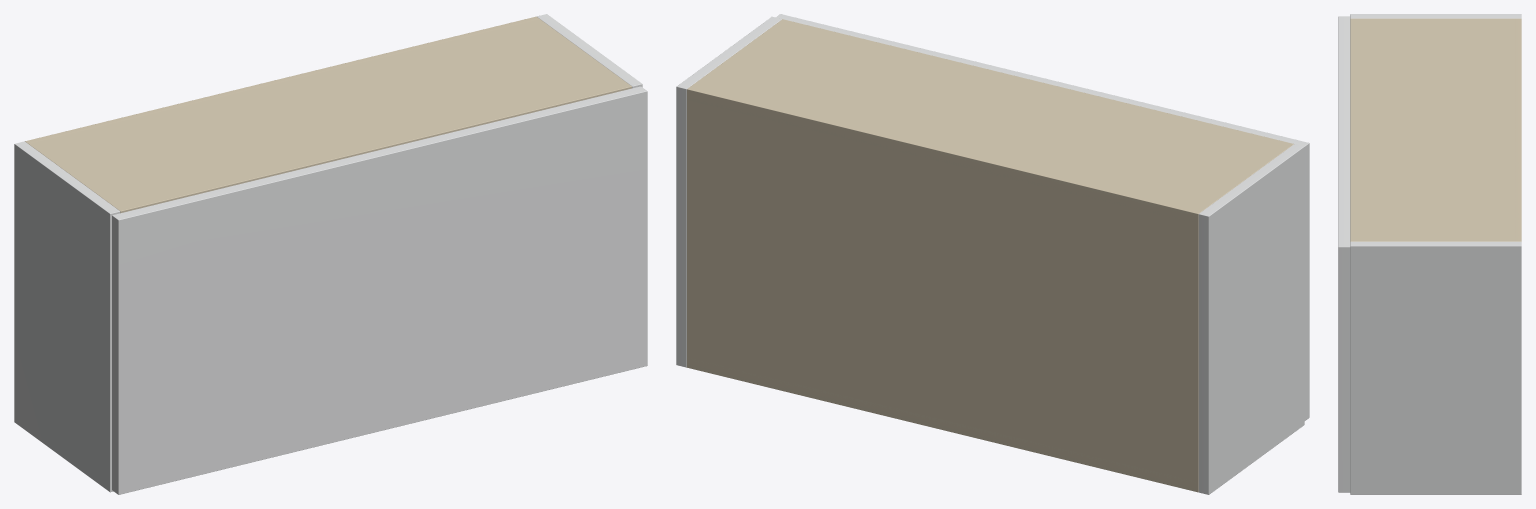
File: oppein-ply-pgw-wsl3618.glb
3 renders of one model, left to right at view 1: azimuth 30°, elevation 25°; view 2: azimuth 150°, elevation 25°; view 3: azimuth 270°, elevation 25°, orthographic. The views are drawn at different scales.
Parts seen in each view (by area): view 1: Door, Cabinet top, Cabinet side, Cabinet back, Cabinet side.001; view 2: Cabinet back, Cabinet top, Cabinet side, Door, Cabinet side.001, Cabinet bottom; view 3: Cabinet side.001, Cabinet top, Door, Cabinet back, Cabinet side.
Part boxes in pixels (<box>): Door: <box>112,86,647,494</box>; Cabinet top: <box>29,19,631,213</box>; Cabinet side: <box>14,141,120,492</box>; Cabinet back: <box>25,16,539,143</box>; Cabinet side.001: <box>537,14,642,88</box>; Cabinet back: <box>687,86,1201,492</box>; Cabinet top: <box>687,19,1293,221</box>; Cabinet side: <box>1198,144,1304,494</box>; Door: <box>776,14,1309,420</box>; Cabinet side.001: <box>676,16,781,367</box>; Cabinet bottom: <box>687,357,1198,491</box>; Cabinet side.001: <box>1350,241,1521,494</box>; Cabinet top: <box>1350,18,1521,241</box>; Door: <box>1338,16,1350,492</box>; Cabinet back: <box>1514,18,1521,241</box>; Cabinet side: <box>1350,14,1521,18</box>.
Size of the model in its own units: 0.9144 by 0.4572 by 0.3048.
